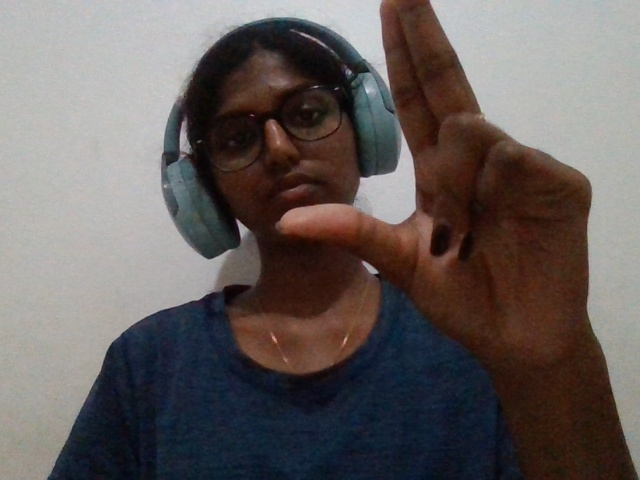No: (287, 2, 637, 393)
